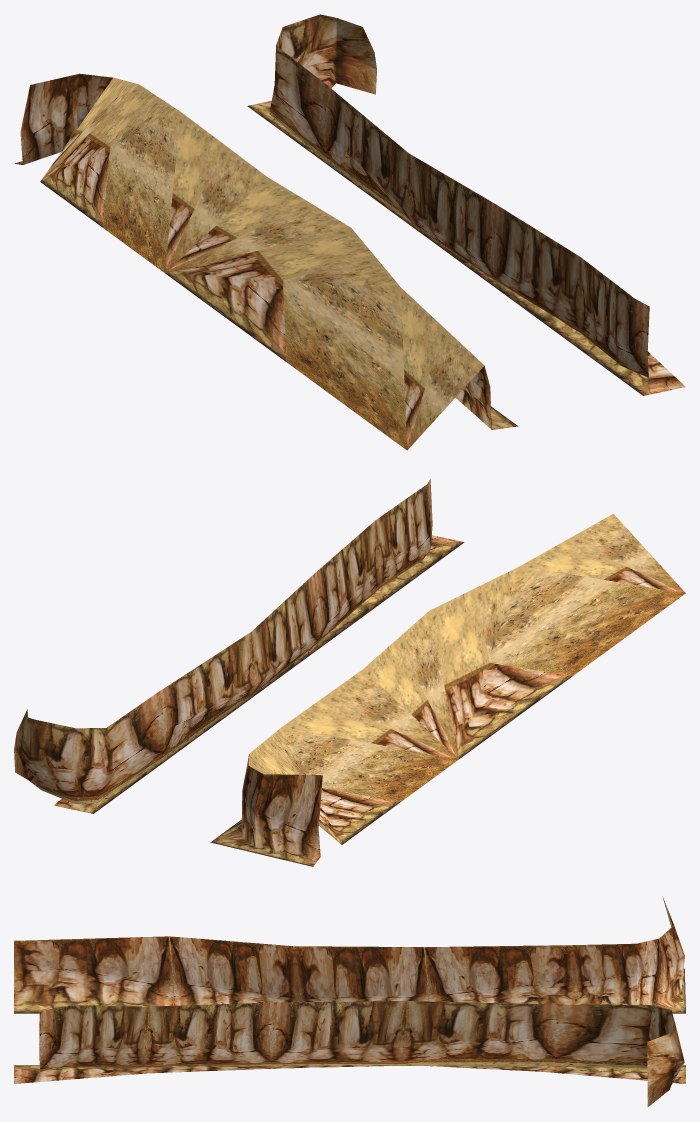
The model's file is us_cany_mid_start.fbx.
3 renders of one model, top to bottom at view 1: azimuth 30°, elevation 25°; view 2: azimuth 150°, elevation 25°; view 3: azimuth 270°, elevation 25°, orthographic. The views are drawn at different scales.
Visible parts, largest first — view 1: us_cany_mid_start; view 2: us_cany_mid_start; view 3: us_cany_mid_start.
Boxes of the visible parts, left/top/right/bottom form: us_cany_mid_start: left=14, top=14, right=685, bottom=450; us_cany_mid_start: left=14, top=479, right=685, bottom=866; us_cany_mid_start: left=14, top=896, right=685, bottom=1107.
Size of the model in its own units: 5006 by 1238 by 10000.
